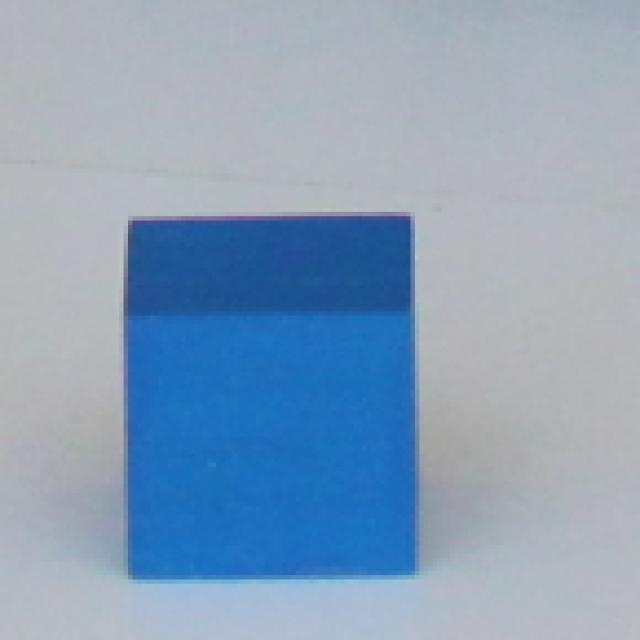bluecube: (125, 211, 420, 584)
